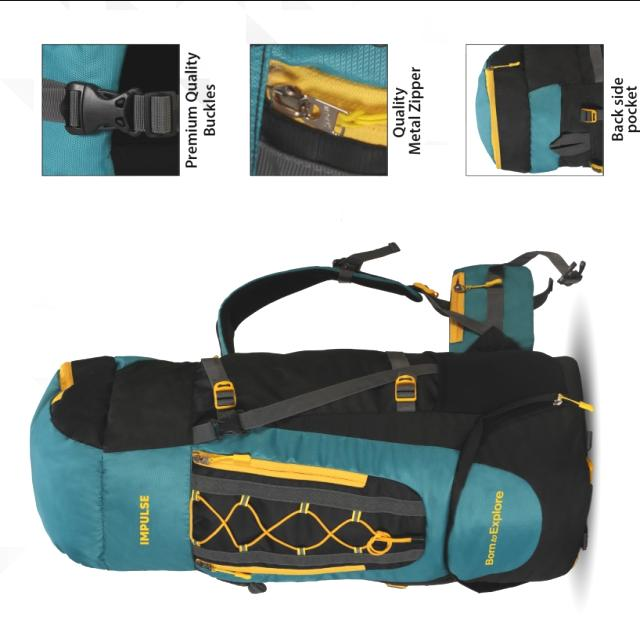backpack: (29, 244, 595, 596), (476, 45, 605, 175)
